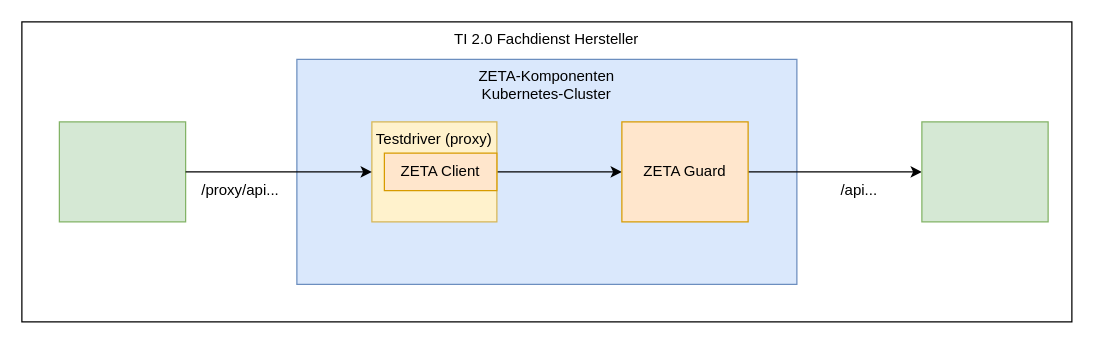
The diagram is 1094 pixels wide and 344 high, and some of its shapes have lost their labels. Here are the shapes that lost their labels. From the top down, the centre of each, then its label:
the point at 122,171: Test Client Fachdienst
the point at 984,171: Resource Server
